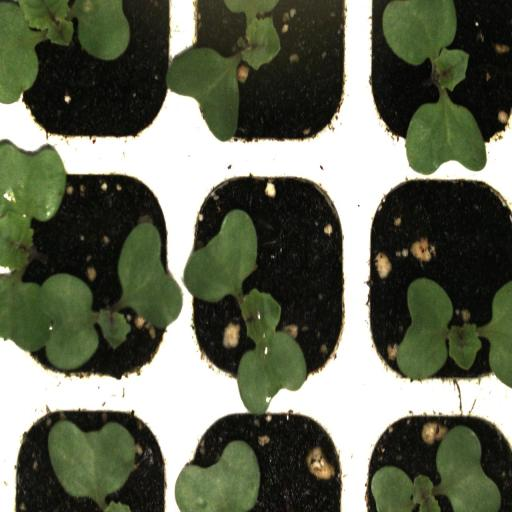seedling: (179, 162, 359, 404), (358, 161, 512, 397), (178, 0, 360, 162), (4, 0, 178, 160), (360, 0, 512, 162), (360, 401, 512, 512)
twoseedling: (5, 161, 179, 393)
